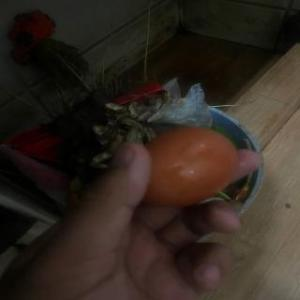egg: (136, 125, 241, 207)
